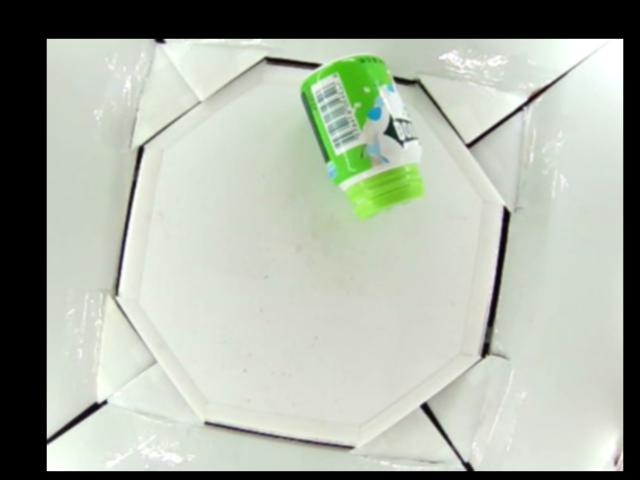Bottle: (299, 55, 422, 219)
